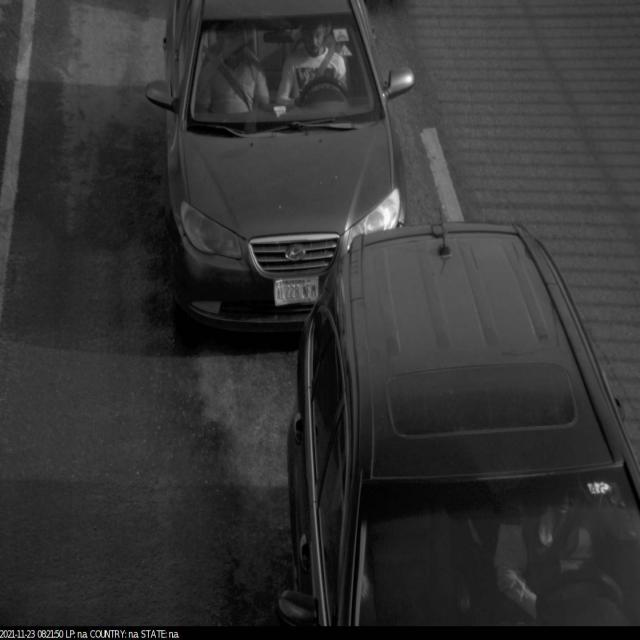windshield: (346, 457, 640, 640), (183, 10, 387, 142)
